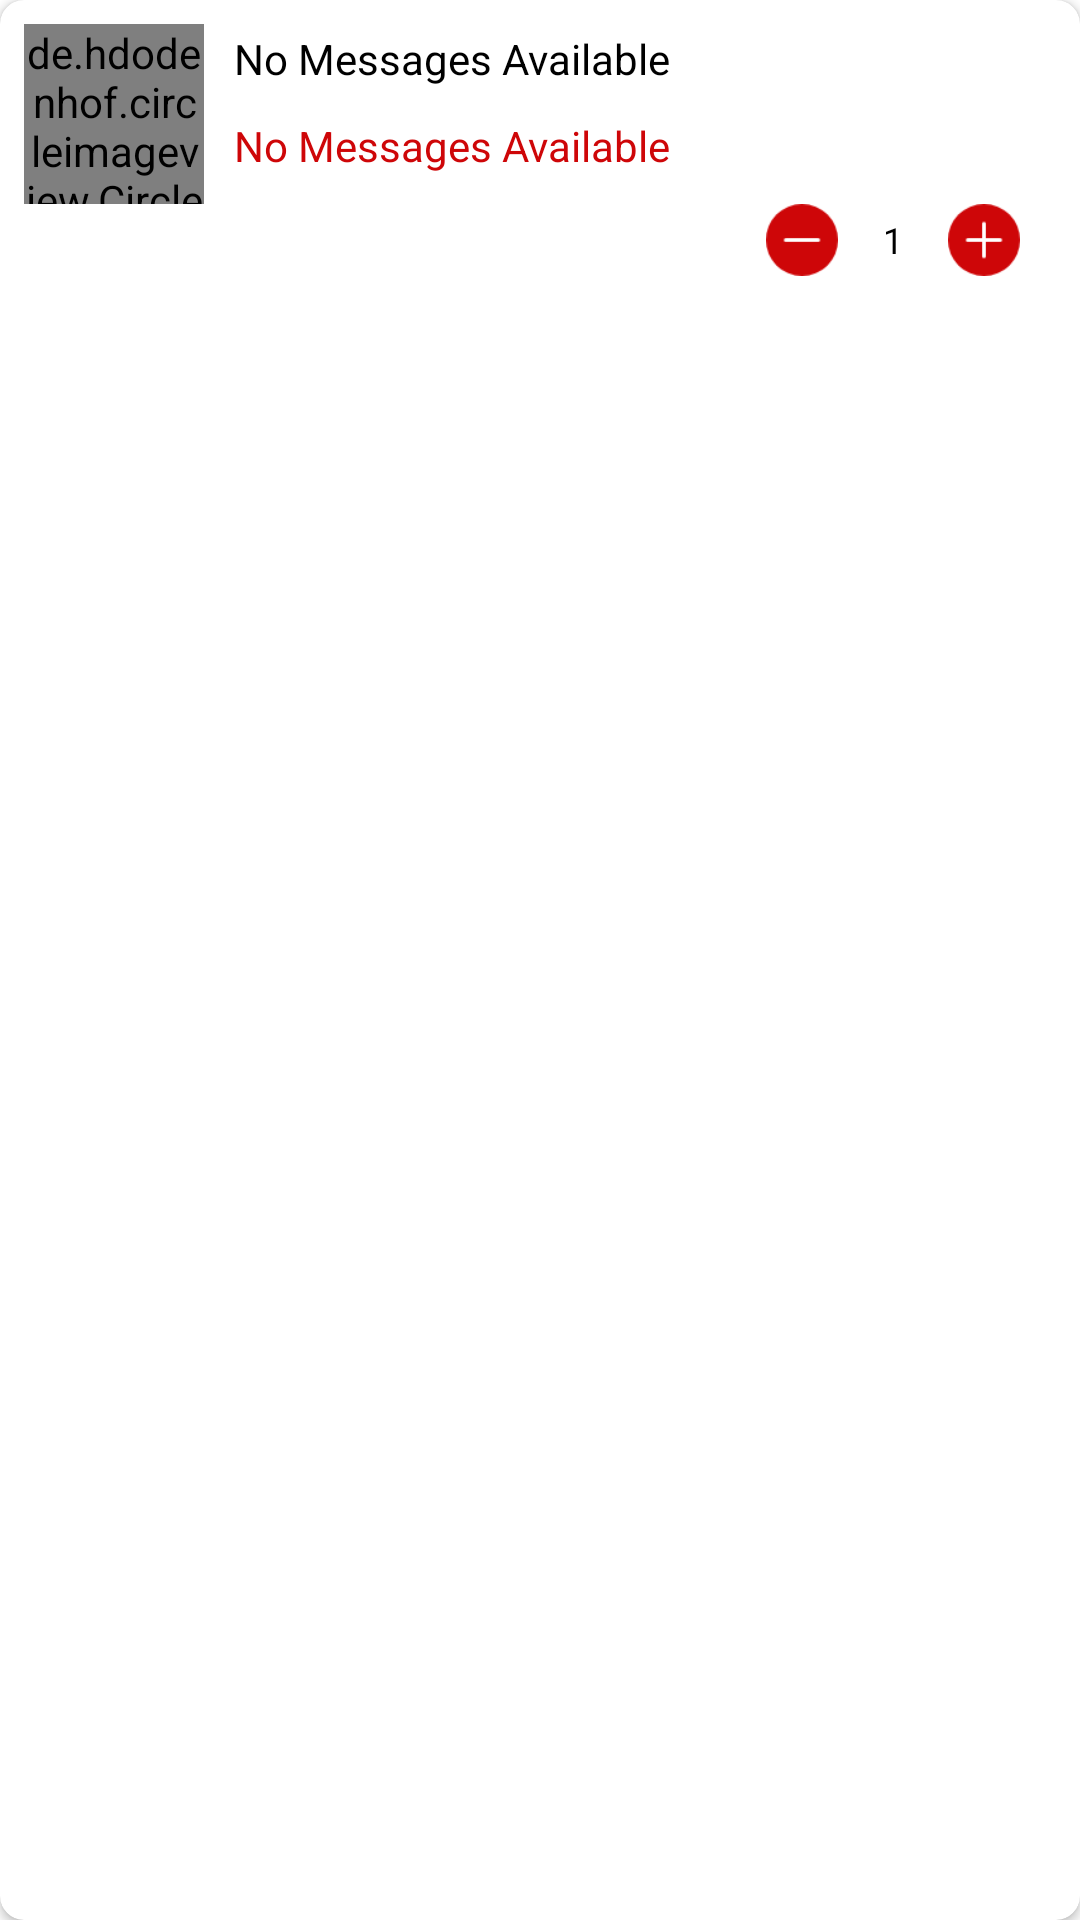

Icons on this 1080px x 1920px Android screen, each with its box as (x1, y1, x2, y2):
minus: (766, 204, 838, 276)
plus: (948, 204, 1020, 276)
